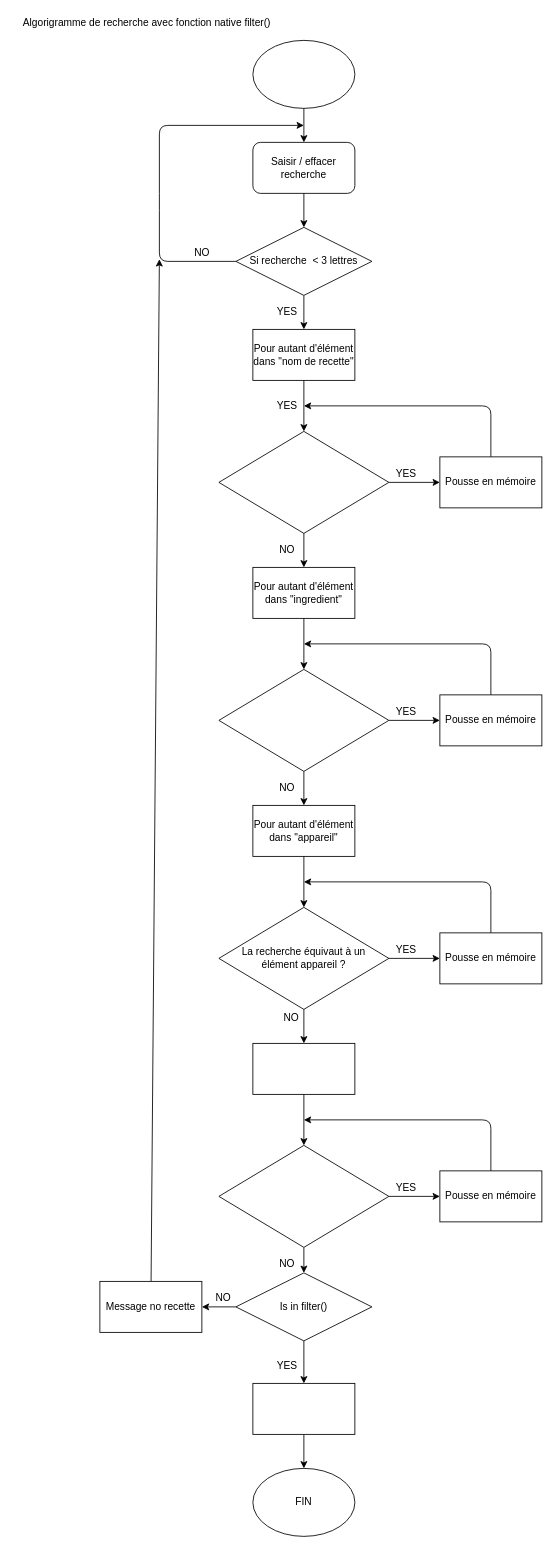
Some shapes in this 557 by 1551 pixel diagram are drawn without their labels. The centre of each missing label's shape, as x and y in pixels:
Afficher plat mit en mémoire: (x=303, y=1408)
Début: (x=303, y=74)
La recherche équivaut à un élément ingrédient ?: (x=303, y=720)
La recherche équivaut à un élément nom de recette ?: (x=303, y=482)
La recherche équivaut à un élément ustensil ?: (x=303, y=1196)
Pour autant d'élément dans "ustensil ": (x=303, y=1068)
